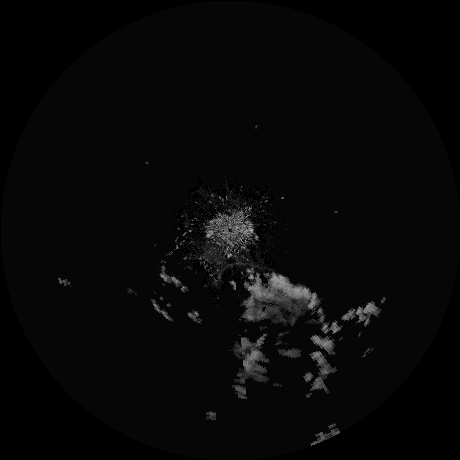frontgust: (216, 261, 273, 281)
